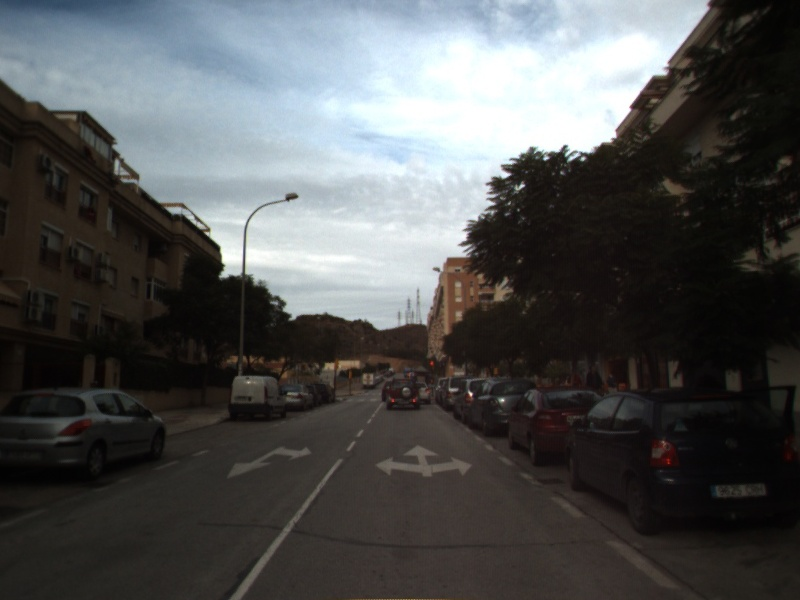STRAIGHT_LEFT_RIGHT: (374, 443, 474, 479)
